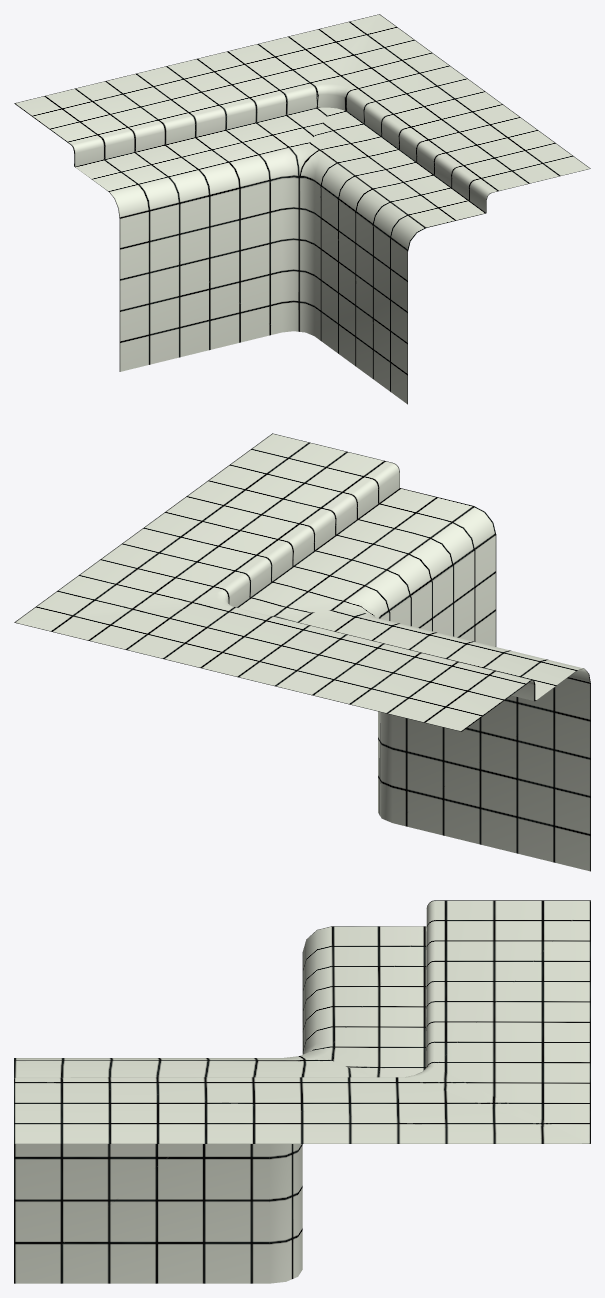
The model's file is Pool_cornerEdge02.fbx.
The picture shows the model from 3 angles, top to bottom: view 1: azimuth 30°, elevation 25°; view 2: azimuth 150°, elevation 25°; view 3: azimuth 270°, elevation 25°; orthographic projection. The views are drawn at different scales.
Parts seen in each view (by area): view 1: Pool_cornerEdge02; view 2: Pool_cornerEdge02; view 3: Pool_cornerEdge02.
Boxes of the visible parts, <box> form: Pool_cornerEdge02: <box>14,14,590,404</box>; Pool_cornerEdge02: <box>14,433,590,871</box>; Pool_cornerEdge02: <box>14,900,590,1283</box>.
Size of the model in its own units: 200 by 100 by 200.
